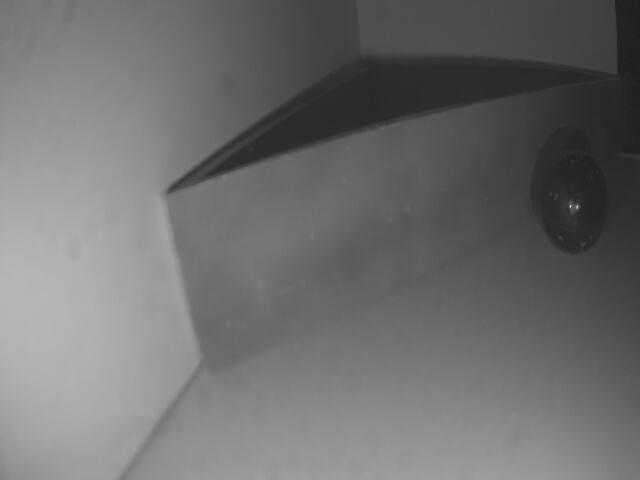Dead: (544, 149, 610, 254)
Green: (167, 78, 628, 380)
